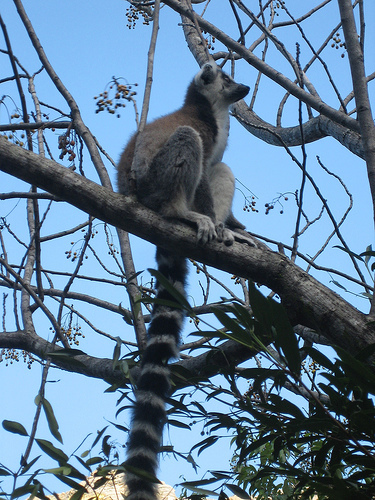cat: (117, 61, 248, 498)
